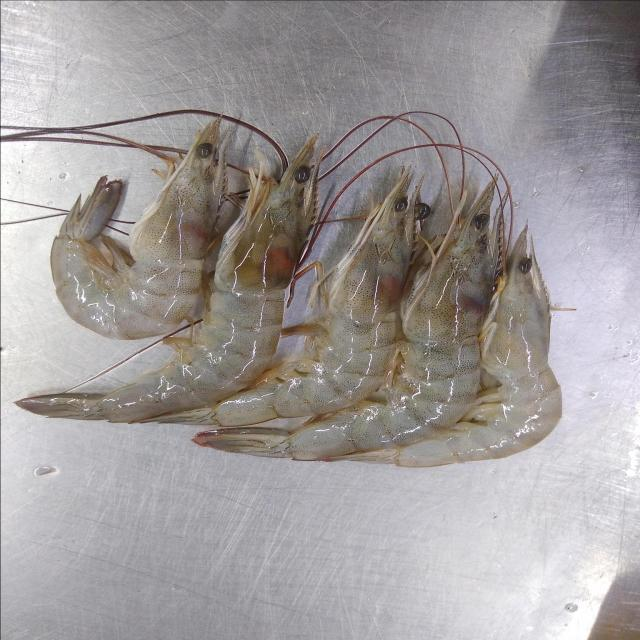shrimp: (15, 134, 319, 423), (202, 182, 502, 460), (141, 169, 415, 426), (329, 225, 563, 467), (50, 118, 225, 339)
